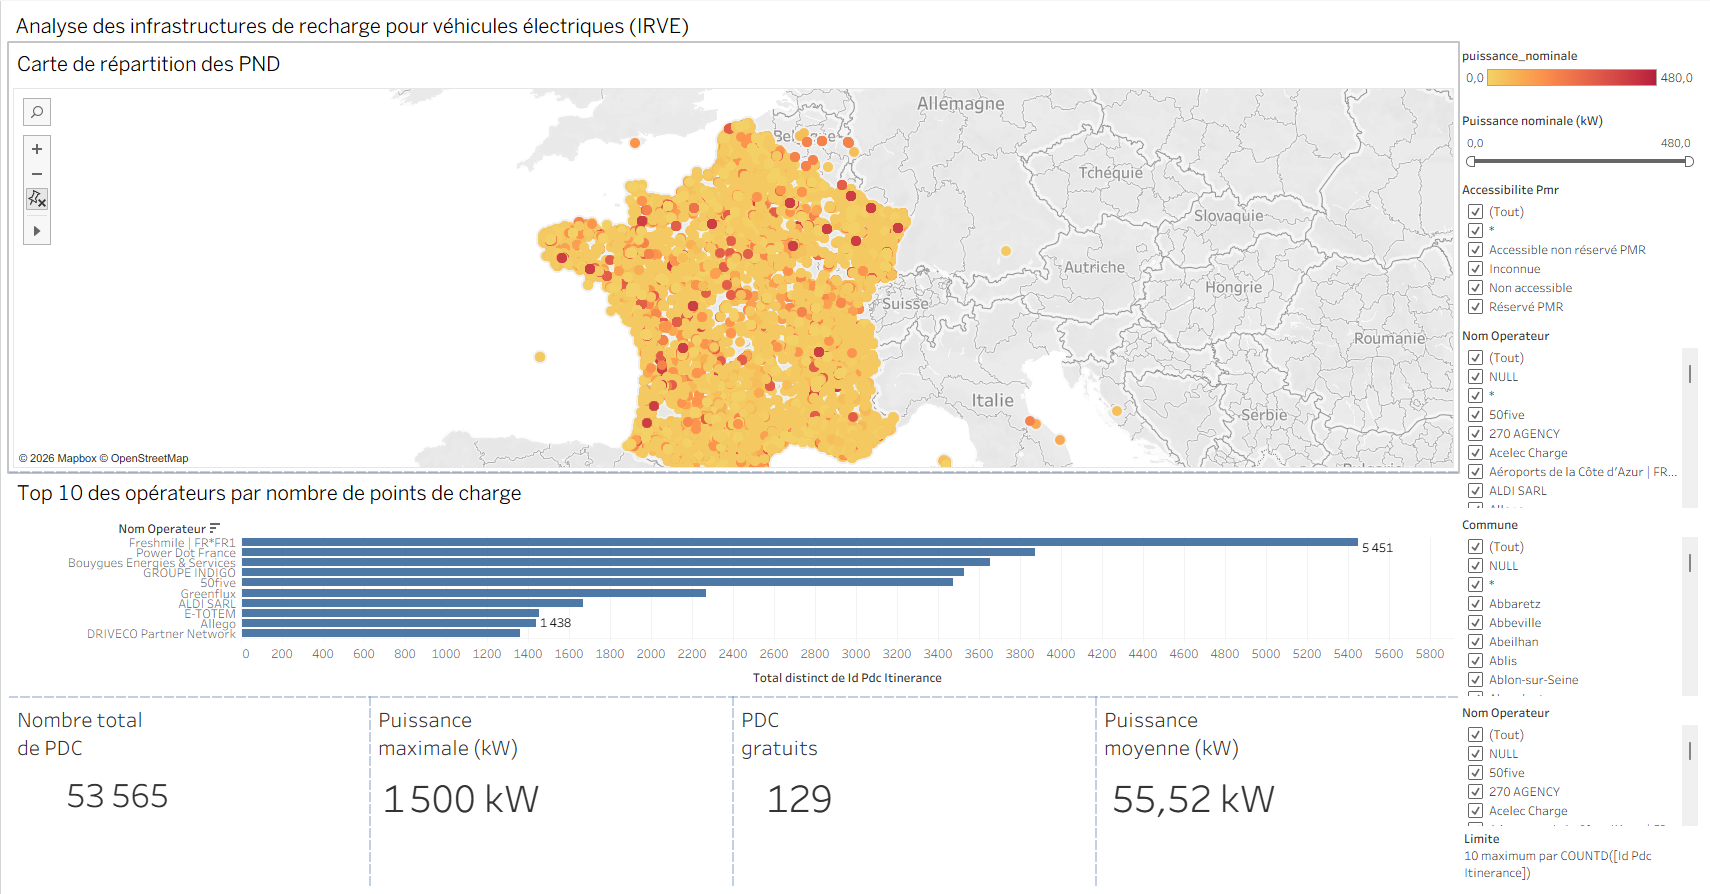

The page's visual inventory and layout, read from the dashboard file:
{"tool":"tableau","page":{"name":"Tableau de bord IRVE","canvas":[1000,1000],"units":"permille","ordinal":3},"visuals":[{"type":"title","box":[4.7,8.9,990.6,38]},{"type":"worksheet","title":"carte des bornes de recharge","mark":"Automatic","rows":["latitude"],"cols":["longitude"],"box":[4.7,46.9,847.9,479]},{"type":"legend","title":"carte des bornes de recharge","param":"[federated.1jgg8bd0r8gsn91gdoh5a1fury0i].[attr:puissance_nominale:qk]","box":[852.6,46.9,142.8,72.5]},{"type":"filter","title":"carte des bornes de recharge","param":"[federated.1jgg8bd0r8gsn91gdoh5a1fury0i].[avg:puissance_nominale:qk]","box":[852.6,119.4,142.8,77]},{"type":"filter","title":"carte des bornes de recharge","param":"[federated.1jgg8bd0r8gsn91gdoh5a1fury0i].[attr:accessibilite_pmr:nk]","box":[852.6,196.4,142.8,163]},{"type":"filter","title":"carte des bornes de recharge","param":"[federated.1jgg8bd0r8gsn91gdoh5a1fury0i].[attr:nom_operateur:nk]","box":[852.6,359.4,142.8,210.6]},{"type":"worksheet","title":"PDC par opérateur","mark":"Automatic","rows":["nom_operateur"],"cols":["id_pdc_itinerance"],"box":[4.7,525.9,847.9,251.1]},{"type":"filter","title":"carte des bornes de recharge","param":"[federated.1jgg8bd0r8gsn91gdoh5a1fury0i].[attr:commune:nk]","box":[852.6,570,142.8,210.6]},{"type":"worksheet","title":"Nombre total de PDC","mark":"Text","box":[4.7,777,211.2,214.1]},{"type":"worksheet","title":"Puissance maximale (kW)","mark":"Automatic","box":[215.9,777,212.6,214.1]},{"type":"worksheet","title":"PDC gratuits","mark":"Automatic","box":[428.5,777,212,214.1]},{"type":"worksheet","title":"Puissance moyenne (kW)","mark":"Text","box":[640.5,777,212.1,214.1]},{"type":"filter","title":"PDC par opérateur","param":"[federated.1jgg8bd0r8gsn91gdoh5a1fury0i].[none:nom_operateur:nk]","box":[852.6,780.5,142.8,210.6]}]}

Visuals, with their boxes on the dashboard's canvas, which has no fixed pixel size, in thousandths of its width and height (x1, y1, x2, y2). These are canvas units, not pixel positions in the 1710x894 screenshot, which may show the page scaled, cropped or inside an application window:
title: x1=5, y1=9, x2=995, y2=47
"carte des bornes de recharge" worksheet: x1=5, y1=47, x2=853, y2=526
"carte des bornes de recharge" legend: x1=853, y1=47, x2=995, y2=119
"carte des bornes de recharge" filter: x1=853, y1=119, x2=995, y2=196
"carte des bornes de recharge" filter: x1=853, y1=196, x2=995, y2=359
"carte des bornes de recharge" filter: x1=853, y1=359, x2=995, y2=570
"PDC par opérateur" worksheet: x1=5, y1=526, x2=853, y2=777
"carte des bornes de recharge" filter: x1=853, y1=570, x2=995, y2=781
"Nombre total de PDC" worksheet (Text marks): x1=5, y1=777, x2=216, y2=991
"Puissance maximale (kW)" worksheet: x1=216, y1=777, x2=428, y2=991
"PDC gratuits" worksheet: x1=428, y1=777, x2=640, y2=991
"Puissance moyenne (kW)" worksheet (Text marks): x1=640, y1=777, x2=853, y2=991
"PDC par opérateur" filter: x1=853, y1=780, x2=995, y2=991
